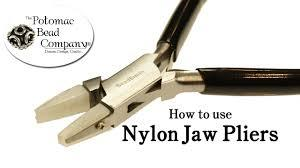pliers: (33, 0, 299, 147)
